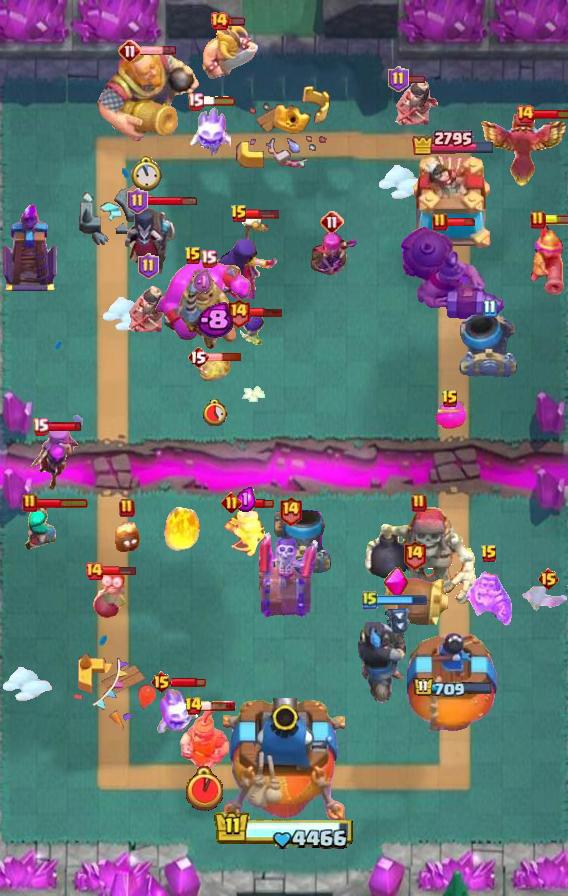archer: (222, 505, 268, 557)
archer-evolution: (307, 225, 357, 277)
bar: (36, 497, 89, 509), (376, 594, 428, 606), (145, 196, 198, 207), (200, 700, 236, 712), (201, 95, 237, 107), (171, 676, 206, 688), (239, 497, 274, 509), (533, 108, 568, 120), (46, 421, 83, 432), (140, 45, 177, 56), (101, 565, 137, 576), (248, 307, 284, 318), (246, 208, 279, 220), (207, 352, 242, 362), (446, 217, 478, 227), (543, 215, 568, 225), (227, 16, 246, 27), (407, 74, 426, 84)
bar-level: (402, 539, 427, 570), (278, 495, 303, 526), (226, 297, 251, 328), (320, 210, 344, 234), (118, 39, 142, 63), (150, 670, 173, 694), (537, 567, 560, 591), (138, 253, 159, 279), (127, 188, 148, 214), (388, 66, 409, 92), (187, 345, 209, 369), (221, 492, 242, 513), (84, 561, 104, 581), (515, 104, 535, 124), (209, 11, 229, 31), (184, 696, 203, 716), (480, 544, 498, 564), (441, 389, 459, 409), (184, 246, 202, 266), (230, 204, 248, 224), (32, 417, 49, 436), (200, 249, 217, 268), (187, 92, 204, 111), (362, 590, 378, 610), (119, 498, 135, 518), (22, 493, 38, 513), (411, 493, 427, 513), (432, 212, 448, 232), (530, 210, 546, 230), (482, 299, 497, 318)
barbarian-barrel: (377, 574, 451, 626)
bat-evolution: (518, 585, 568, 613)
bomber: (91, 569, 127, 621)
clock: (186, 766, 223, 811), (131, 156, 162, 192), (201, 398, 228, 426)
elite-barbarian: (201, 21, 259, 81)
elixir: (196, 302, 233, 339), (193, 268, 214, 295), (235, 486, 256, 512)
elixir-golem-small: (434, 399, 466, 429)
evolution-symbol: (381, 566, 409, 600)
fire-spirit: (113, 522, 141, 554)
ice-spirit-evolution: (187, 103, 231, 157), (156, 686, 198, 736)
king-tower: (223, 698, 345, 826)
king-tower-bar: (214, 810, 355, 851)
knight-evolution: (466, 569, 512, 627)
lava-pup: (197, 353, 231, 385)
mortar: (273, 510, 333, 574), (459, 313, 519, 377)
mother-witch: (28, 424, 80, 494)
musketeer: (528, 220, 568, 296)
night-witch: (120, 205, 178, 277)
princess: (123, 283, 173, 337), (390, 76, 440, 130)
queen-tower: (407, 156, 499, 256), (407, 633, 499, 731)
rascal-girl: (23, 503, 61, 553)
royal-recruit: (179, 709, 229, 773)
skeleton-evolution: (240, 312, 266, 348)
tower-bar: (411, 128, 496, 155), (413, 677, 494, 699)
witch: (216, 211, 280, 299)
